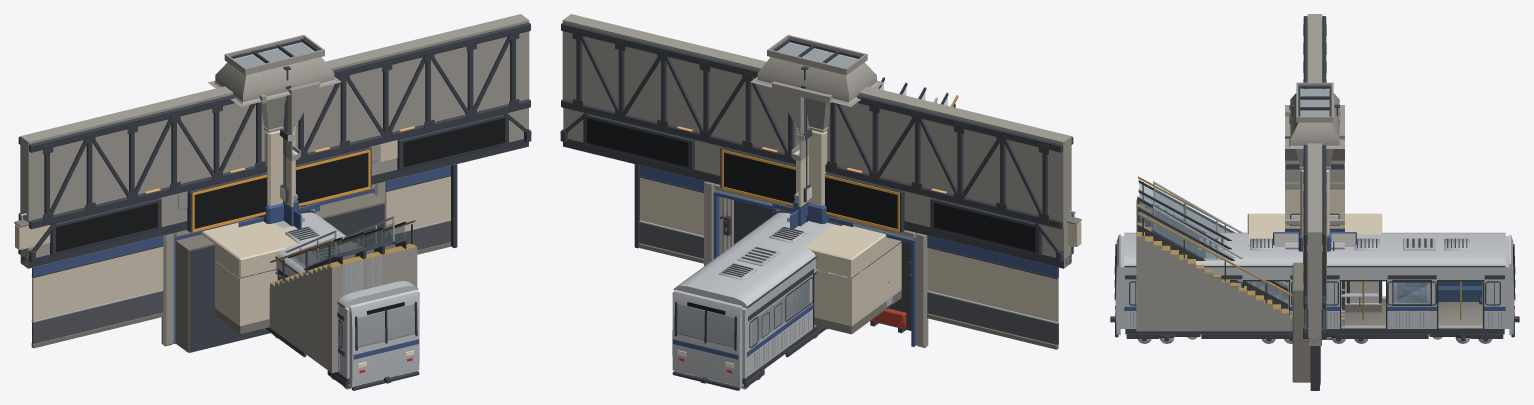
The model's file is Station2.fbx.
The picture shows the model from 3 angles, left to right: view 1: azimuth 30°, elevation 25°; view 2: azimuth 150°, elevation 25°; view 3: azimuth 270°, elevation 25°; orthographic projection. The views are drawn at different scales.
Visible parts, largest first — view 1: Gantry_Beam, EndWall_Field, Gantry_Members, CorridorStair_Treads, Gantry_Chords, TicketOffice_Shell, Train_Body, Gantry_BoardN_Face, EndWall_Tunnel, EndWall_Dado, EndWall_Reveal, Gantry_Skirt (+29 smaller); view 2: Gantry_Beam, Train_Body, EndWall_Field, Gantry_Members, TicketOffice_Shell, Gantry_Chords, Train_Roof, Gantry_BoardS_Face, EndWall_Dado, Train_DarkGlass, Coffer14_Shell, EndWall_Surround (+29 smaller); view 3: CorridorStair_Treads, Train_Body, Train_Roof, Gantry_Beam, EscalatorBank_Glass, TicketOffice_Shell, Coffer14_Shell, HallStairs_Glass, Gantry_Chords, Train_Under, TrainCodex_GraniteA, EndWall_Reveal (+31 smaller).
Part boxes in pixels (x1,y1,x2,y2): Gantry_Beam: (20, 14, 529, 268); EndWall_Field: (32, 176, 450, 321); Gantry_Members: (44, 36, 515, 214); CorridorStair_Treads: (269, 247, 417, 373); Gantry_Chords: (18, 22, 530, 229); TicketOffice_Shell: (202, 221, 309, 325); Train_Body: (256, 260, 419, 386); Gantry_BoardN_Face: (194, 152, 367, 228); EndWall_Tunnel: (189, 204, 384, 352); EndWall_Dado: (32, 221, 450, 344); EndWall_Reveal: (176, 193, 385, 352); Gantry_Skirt: (20, 139, 528, 268); Gantry_Beam: (562, 14, 1071, 268); Train_Body: (672, 258, 845, 386); EndWall_Field: (640, 177, 1058, 322); Gantry_Members: (576, 36, 1047, 214); TicketOffice_Shell: (782, 224, 901, 325); Gantry_Chords: (561, 22, 1073, 229); Train_Roof: (674, 212, 833, 308); Gantry_BoardS_Face: (724, 152, 897, 228); EndWall_Dado: (640, 222, 1058, 344); Train_DarkGlass: (677, 279, 809, 347); Coffer14_Shell: (750, 43, 884, 106); EndWall_Surround: (704, 181, 928, 347); CorridorStair_Treads: (1136, 200, 1292, 331); Train_Body: (1116, 234, 1513, 335); Train_Roof: (1124, 232, 1505, 266); Gantry_Beam: (1307, 14, 1322, 345); EscalatorBank_Glass: (1139, 183, 1288, 303); TicketOffice_Shell: (1247, 213, 1382, 304); Coffer14_Shell: (1285, 89, 1344, 148); HallStairs_Glass: (1155, 188, 1288, 302); Gantry_Chords: (1303, 16, 1326, 308); Train_Under: (1125, 329, 1504, 336); TrainCodex_GraniteA: (1345, 299, 1482, 325); EndWall_Reveal: (1293, 262, 1310, 382).
Size of the model in its own units: 70.58 by 35.4 by 54.8.
